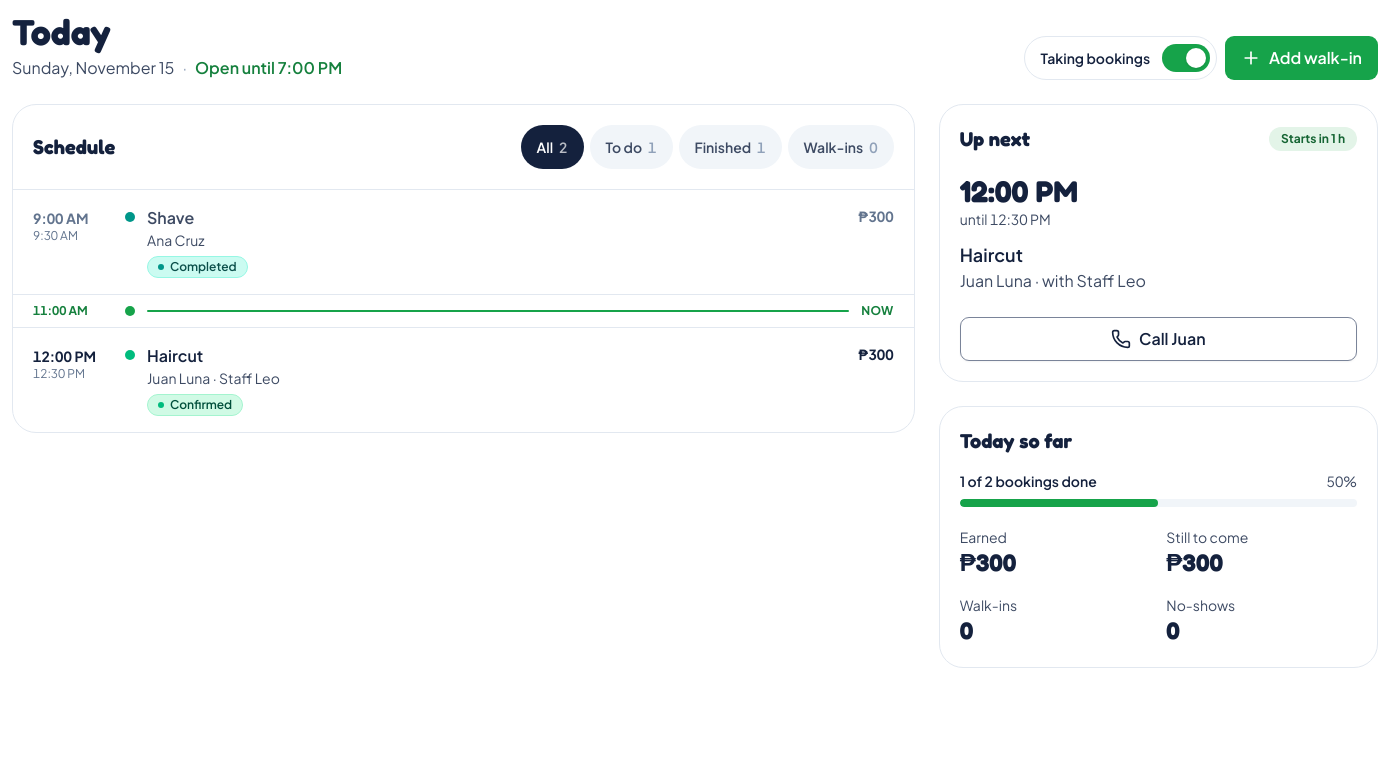
Test case: TodayView › filters the schedule and draws the Now line between past and upcoming
Step 1. Click the button "To do 1" → (631, 147), box x1=590 y1=125 x2=672 y2=169
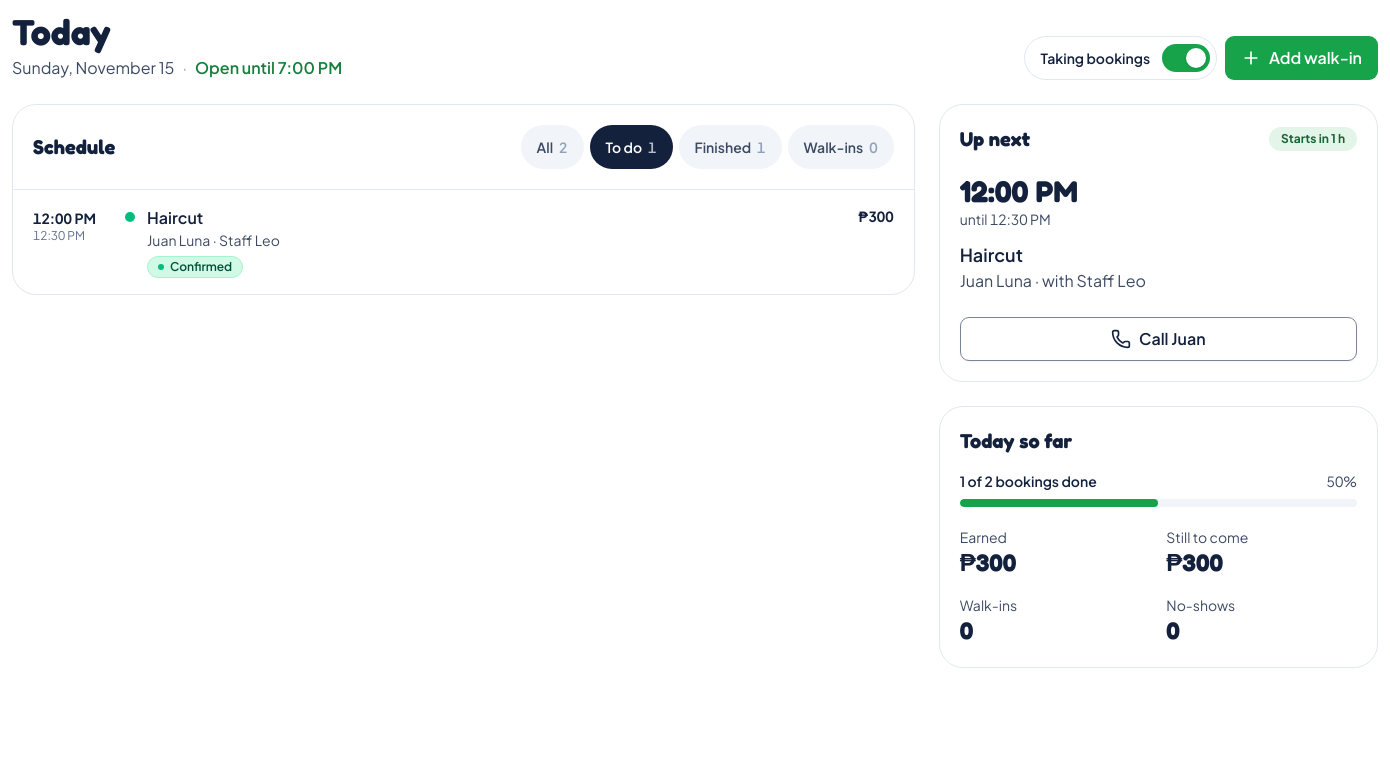
Expected: the text "Haircut" below "Schedule" is shown, x1=147 y1=207 x2=203 y2=228
Expected: the button "Shave" is gone
Step 2. Click the button "Walk-ins 0" → (841, 147), box x1=788 y1=125 x2=894 y2=169
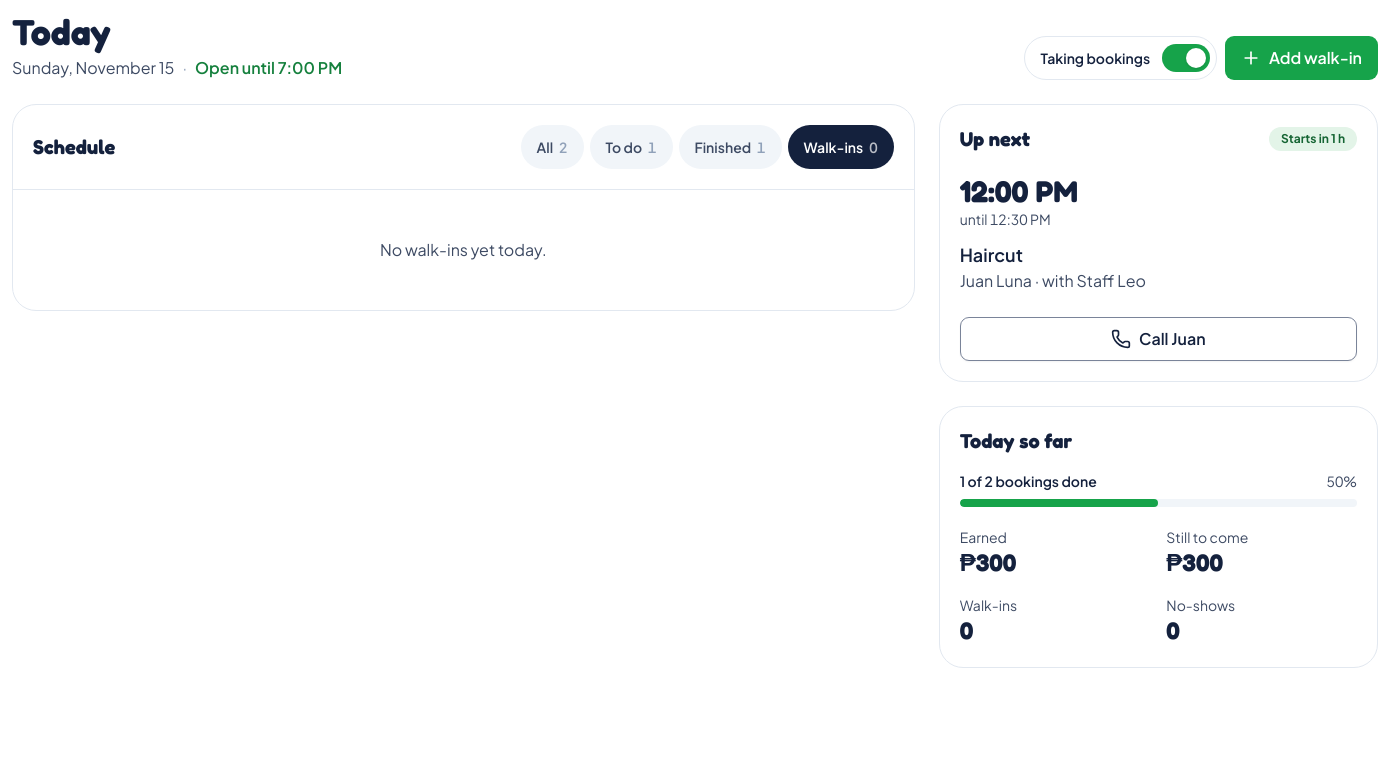
Expected: the text "No walk-ins yet today." is shown, x1=380 y1=239 x2=546 y2=260
